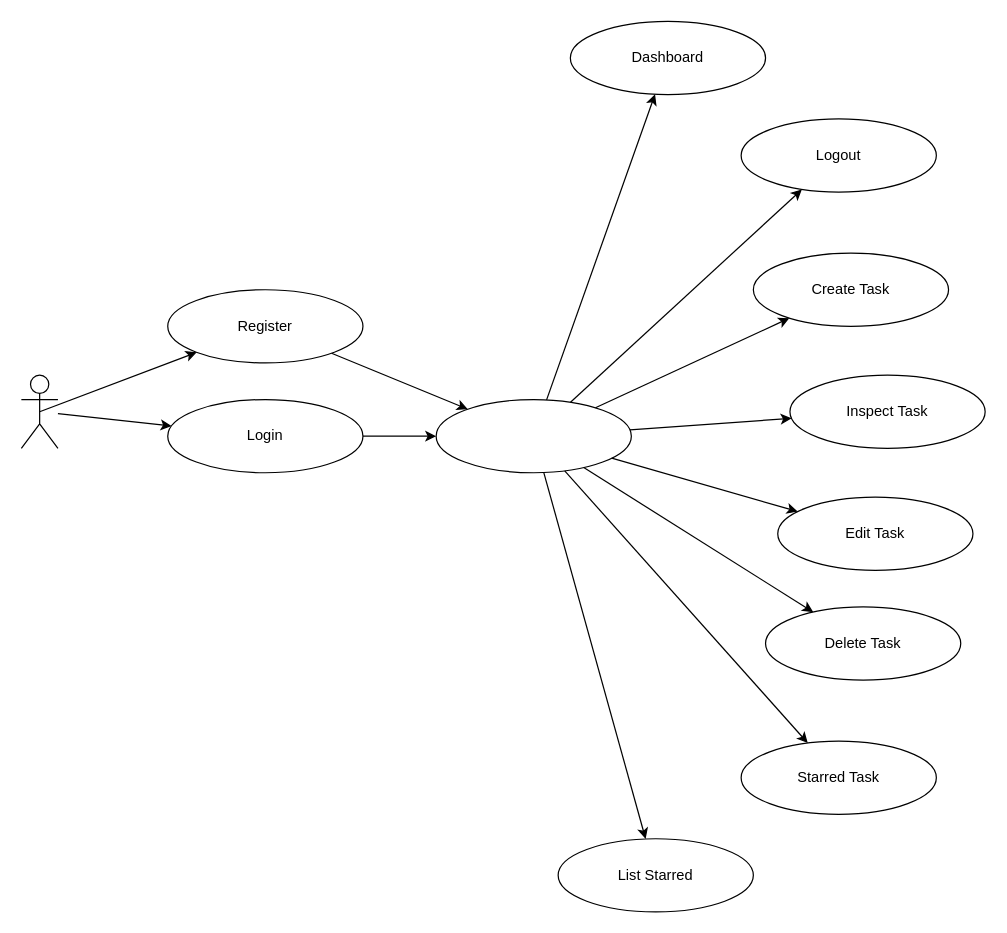
Some shapes in this 1007 by 933 pixel diagram are drawn without their labels. The box of each missing label's shape, as (x1, y1, x2, y2) in pixels:
Homepage: (435, 398, 631, 473)
User: (20, 374, 58, 448)
